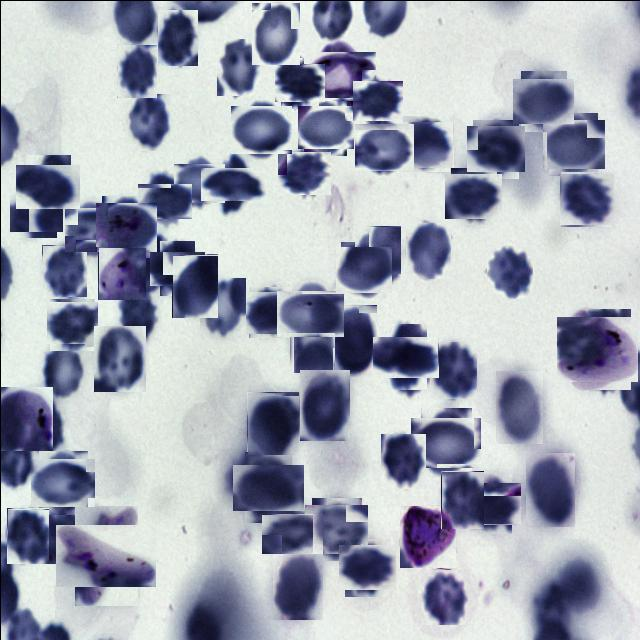gametocyte: (399, 505, 455, 567)
red blood cell: (415, 412, 476, 472), (525, 452, 574, 526), (494, 369, 542, 443), (299, 369, 349, 440), (238, 457, 297, 516), (93, 325, 145, 391), (330, 304, 376, 376), (272, 553, 322, 619), (246, 391, 298, 454), (34, 454, 91, 511), (281, 284, 338, 341), (308, 500, 364, 557), (544, 116, 600, 172), (250, 1, 299, 64), (232, 102, 288, 156), (20, 158, 74, 214), (378, 329, 432, 384), (353, 225, 400, 288), (171, 254, 217, 318), (516, 74, 570, 128), (468, 122, 522, 175), (559, 172, 612, 225), (358, 120, 410, 174), (199, 277, 245, 338), (288, 311, 334, 372), (428, 340, 476, 398), (399, 118, 452, 170), (337, 243, 389, 296), (420, 568, 467, 624), (124, 93, 170, 150), (404, 221, 450, 278), (266, 507, 317, 558), (340, 542, 392, 592), (448, 170, 498, 222), (465, 478, 516, 528), (216, 38, 260, 95), (300, 102, 350, 152), (66, 204, 116, 254), (440, 470, 483, 528), (486, 244, 532, 298), (380, 434, 425, 489), (40, 343, 84, 399), (208, 159, 258, 208), (44, 508, 88, 563), (6, 508, 48, 564), (116, 286, 158, 342), (41, 244, 86, 296), (280, 148, 328, 196), (11, 186, 59, 234), (48, 300, 96, 348), (157, 9, 197, 65), (246, 288, 293, 335), (116, 43, 156, 97), (176, 160, 222, 206), (354, 78, 400, 124), (154, 245, 199, 290), (141, 178, 186, 223), (276, 60, 322, 104)
ring: (0, 386, 52, 450), (98, 198, 154, 254), (97, 246, 145, 299)
trophozoite: (65, 514, 146, 596), (560, 312, 634, 386), (309, 45, 370, 106)
